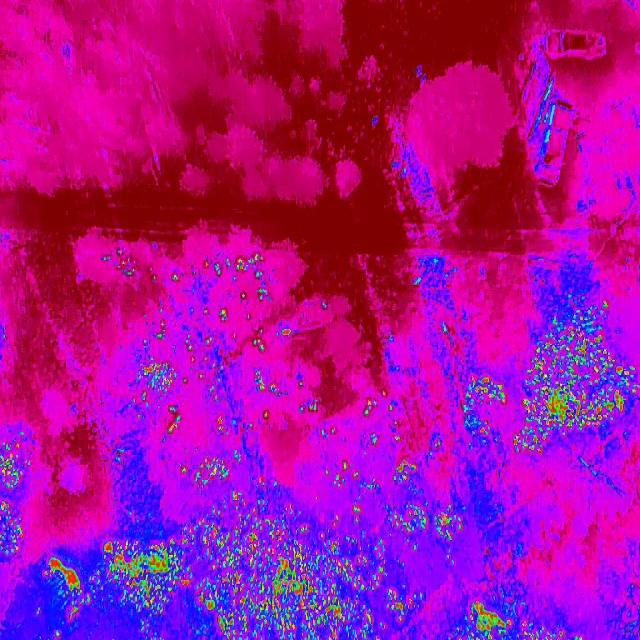fire: (102, 527, 399, 640), (514, 309, 640, 453), (338, 450, 468, 560), (177, 453, 306, 528), (133, 316, 233, 398), (171, 252, 276, 316), (448, 596, 582, 640), (45, 552, 104, 626), (460, 372, 508, 450), (0, 431, 25, 564), (252, 367, 280, 398), (214, 418, 238, 440), (166, 406, 182, 435), (296, 398, 321, 412), (362, 398, 378, 418), (250, 333, 266, 353), (274, 324, 292, 338)
